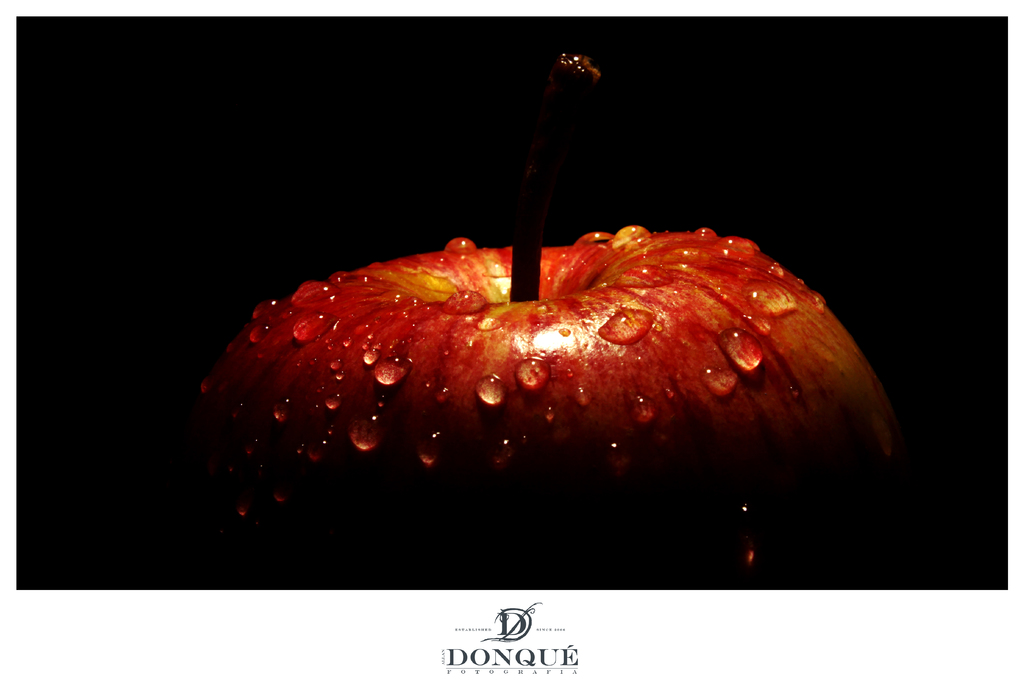Apple: (215, 176, 881, 561)
